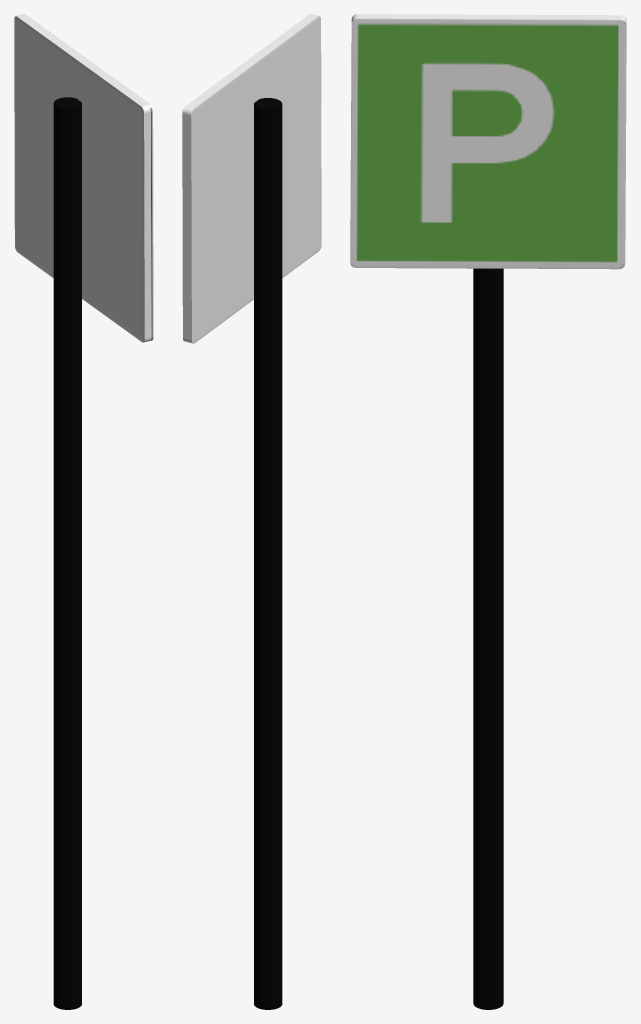
Rendered from Sign_park.fbx.
The picture shows the model from 3 angles, left to right: view 1: azimuth 30°, elevation 25°; view 2: azimuth 150°, elevation 25°; view 3: azimuth 270°, elevation 25°; orthographic projection. The views are drawn at different scales.
Parts seen in each view (by area): view 1: Sign_Park, Pole_Park; view 2: Sign_Park, Pole_Park; view 3: Sign_Park, Pole_Park.
Part boxes in pixels (bbox=[...]): Sign_Park: bbox=[14, 14, 153, 342]; Pole_Park: bbox=[53, 97, 81, 1009]; Sign_Park: bbox=[182, 14, 321, 343]; Pole_Park: bbox=[254, 98, 282, 1009]; Sign_Park: bbox=[350, 14, 626, 269]; Pole_Park: bbox=[473, 268, 503, 1009].
Size of the model in its own units: 6.49 by 176 by 44.22.
Materials: 2 (1 with a texture image).
